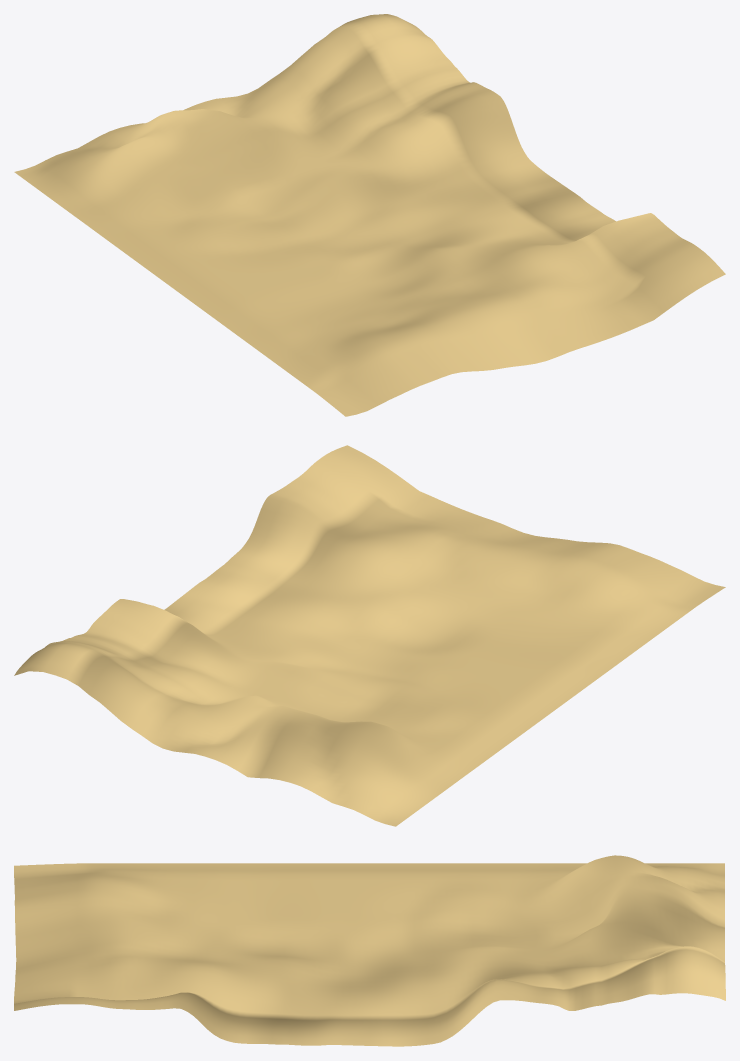
File: beach_variation_3.fbx
3 renders of one model, top to bottom at view 1: azimuth 30°, elevation 25°; view 2: azimuth 150°, elevation 25°; view 3: azimuth 270°, elevation 25°, orthographic. The views are drawn at different scales.
Parts seen in each view (by area): view 1: Beach; view 2: Beach; view 3: Beach.
Part boxes in pixels (bbox=[...]): Beach: bbox=[14, 14, 725, 416]; Beach: bbox=[14, 445, 725, 826]; Beach: bbox=[14, 855, 725, 1046].
Size of the model in its own units: 125 by 26.15 by 188.
